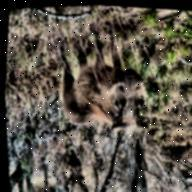boar: (55, 38, 163, 150)
